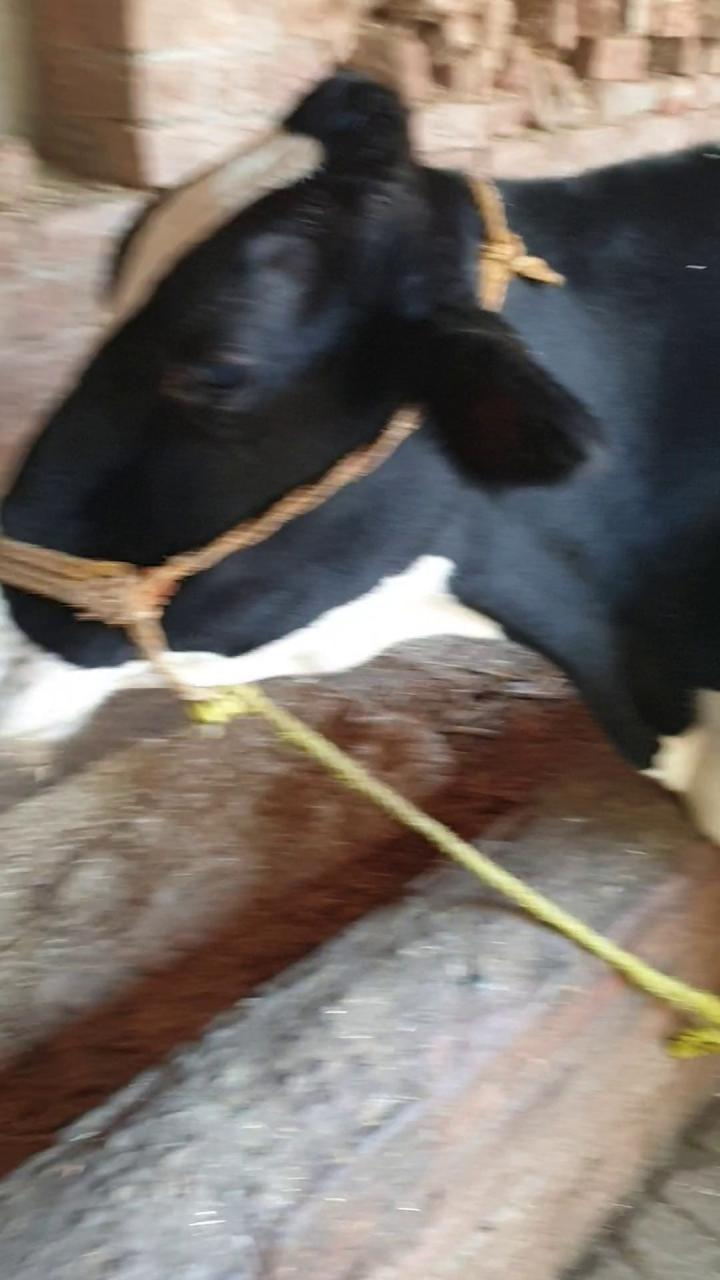cows: (0, 69, 412, 778)
